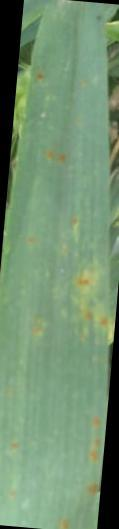Corn: (29, 138, 117, 337)
